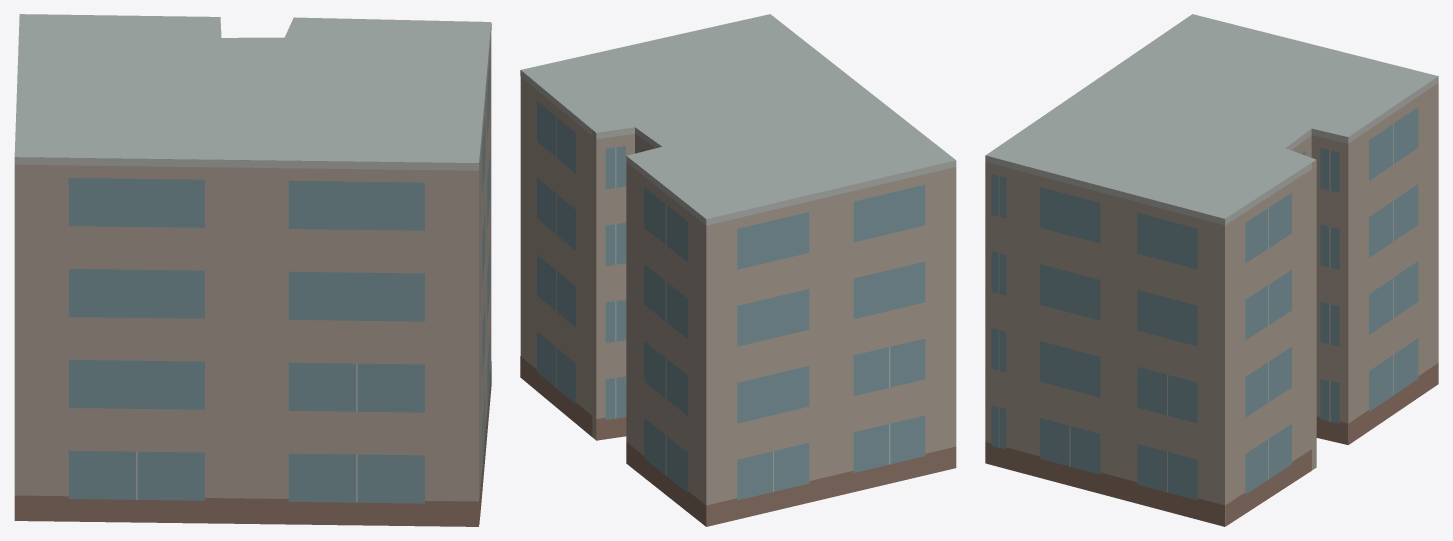
The model's file is survey-upis-32880179.glb.
3 views of the same model, side by side, from view 1: azimuth 30°, elevation 25°; view 2: azimuth 150°, elevation 25°; view 3: azimuth 270°, elevation 25° (orthographic). The views are drawn at different scales.
Parts seen in each view (by area): view 1: survey-upis-32880179.tmp; view 2: survey-upis-32880179.tmp; view 3: survey-upis-32880179.tmp.
Part boxes in pixels (x1,y1,x2,y2): survey-upis-32880179.tmp: (14, 14, 491, 526); survey-upis-32880179.tmp: (520, 14, 956, 526); survey-upis-32880179.tmp: (985, 14, 1438, 526).
Bounding box in the file's own units: 16.56 × 11.6 × 15.47.
